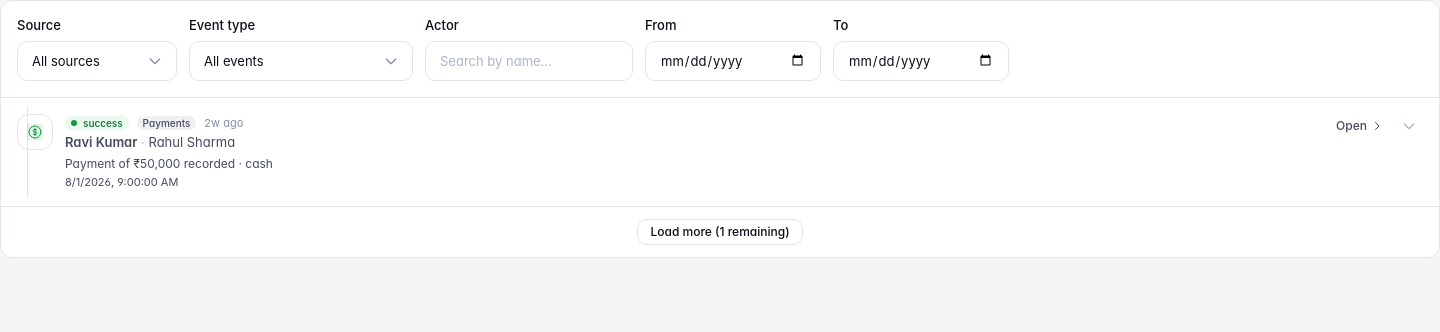
Timeline component › loads more pages and appends items
Expected: the text "Rahul Sharma" is shown, [148,134,235,150]
Step 1. Click the button "Load more (1 remaining)" → (720, 232), box [637,219,802,245]
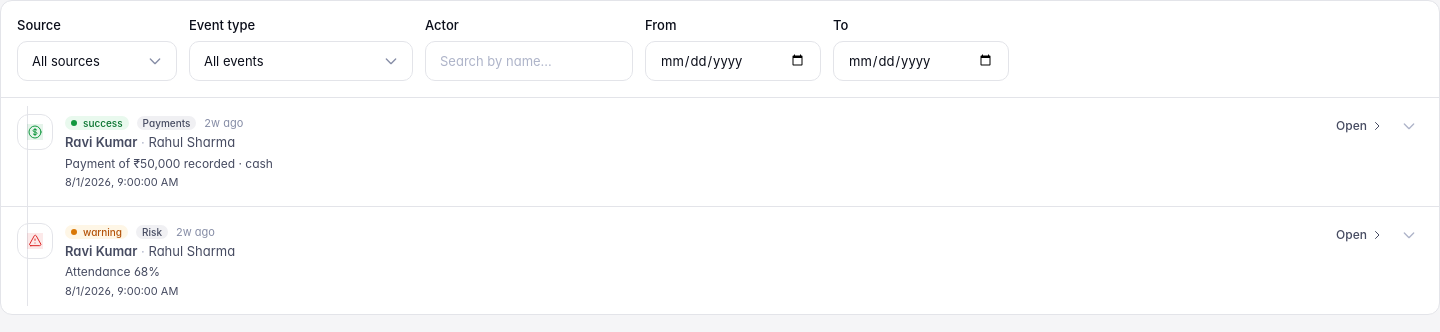
Result: the text "Attendance 68%" is shown at [65,264,160,279]
